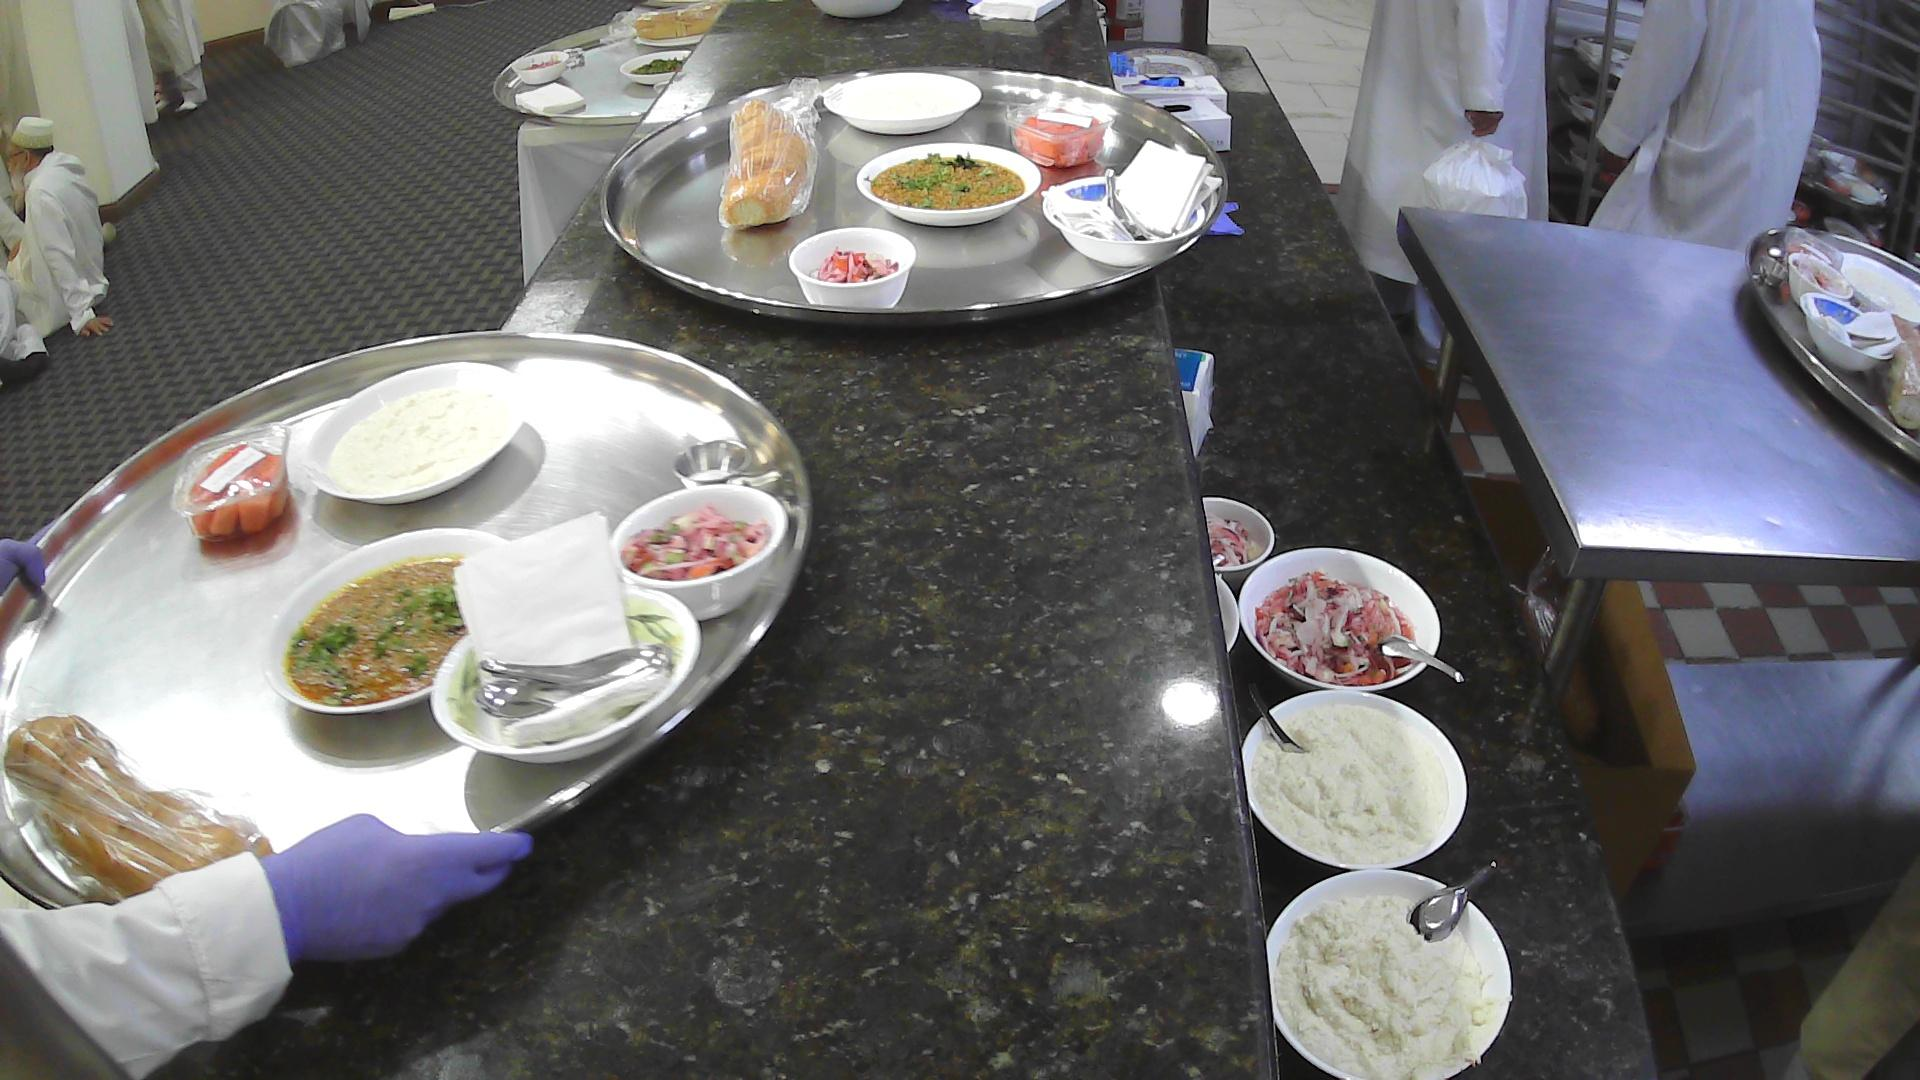thaal: (0, 328, 815, 915), (596, 62, 1232, 335), (1743, 224, 1920, 473), (492, 11, 720, 127)
